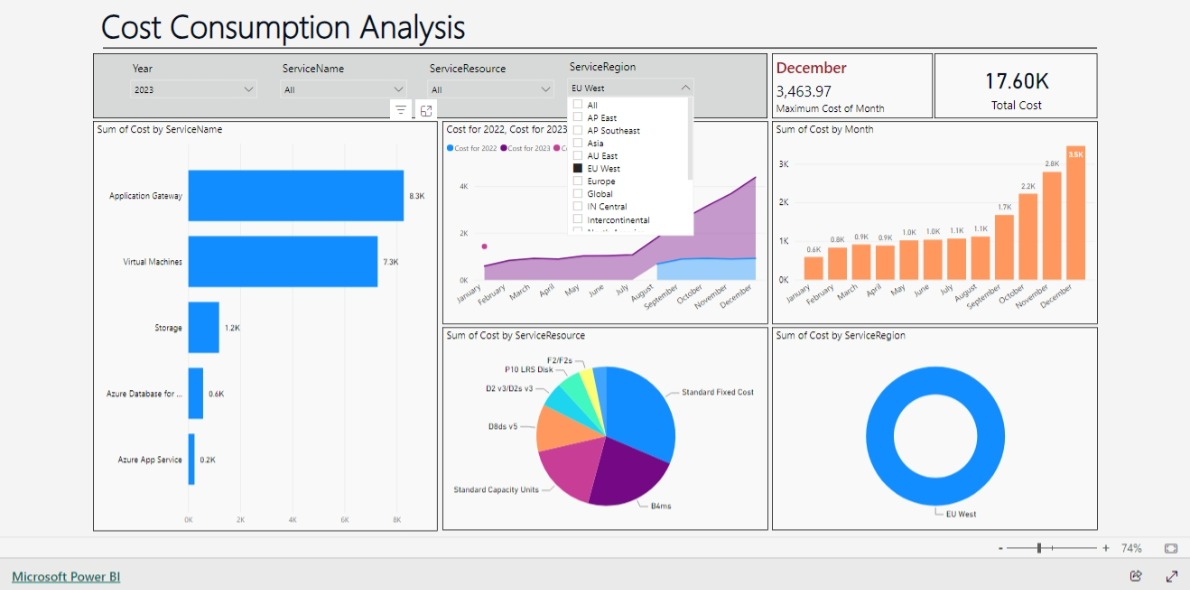

What the dashboard file says about the page in this screenshot:
{"tool":"powerbi","page":{"name":"Page 1","canvas":[1503,800],"ordinal":0},"visuals":[{"type":"shape","box":[3.2,79,1006,97],"z":0},{"type":"columnChart","title":"Total Cost by Month","fields":{"Category":["AzureUsage_Workxflow_10-01-2024.Date.Variation.Date Hierarchy.Month"],"Y":["Sum(AzureUsage_Workxflow_10-01-2024.Cost)"]},"box":[1015,180,486,303.4],"z":1000},{"type":"donutChart","title":"Total Cost by ServiceRegion","fields":{"Category":["AzureUsage_Workxflow_10-01-2024.ServiceRegion"],"Y":["Sum(AzureUsage_Workxflow_10-01-2024.Cost)"]},"box":[1015,488,486,303],"z":2000},{"type":"pieChart","title":"Total Cost by ServiceResource","fields":{"Category":["AzureUsage_Workxflow_10-01-2024.ServiceResource"],"Y":["Sum(AzureUsage_Workxflow_10-01-2024.Cost)"]},"box":[523.3,488,486,303],"z":3000},{"type":"clusteredBarChart","title":"total cost by ServiceName","fields":{"Category":["AzureUsage_Workxflow_10-01-2024.ServiceName"],"Y":["Sum(AzureUsage_Workxflow_10-01-2024.Cost)"]},"box":[3,180,514,611],"z":4000},{"type":"card","fields":{"Values":["Sum(AzureUsage_Workxflow_10-01-2024.Cost)"]},"box":[1258.3,79,242.7,97],"z":5000},{"type":"slicer","fields":{"Values":["AzureUsage_Workxflow_10-01-2024.ServiceName"]},"box":[417,85.7,193.9,87.3],"z":6000},{"type":"slicer","fields":{"Values":["AzureUsage_Workxflow_10-01-2024.ServiceResource"]},"box":[610.9,85.7,192.3,87.3],"z":7000},{"type":"slicer","fields":{"Values":["AzureUsage_Workxflow_10-01-2024.ServiceRegion"]},"box":[803.2,85.7,193.9,87.3],"z":8000},{"type":"slicer","fields":{"Values":["AzureUsage_Workxflow_10-01-2024.Date.Variation.Date Hierarchy.Year"]},"box":[17.6,86.2,193,86.2],"z":9000},{"type":"multiRowCard","fields":{"Values":["AzureUsage_Workxflow_10-01-2024.Date.Variation.Date Hierarchy.Month","Sum(AzureUsage_Workxflow_10-01-2024.Cost)"]},"box":[1015.6,79.8,239.5,97.4],"z":10000},{"type":"stackedAreaChart","title":"Cost Comparison by Year","fields":{"Category":["AzureUsage_Workxflow_10-01-2024.Date.Variation.Date Hierarchy.Month"],"Y":["AzureUsage_Workxflow_10-01-2024.Cost for 2022","AzureUsage_Workxflow_10-01-2024.Cost for 2023","AzureUsage_Workxflow_10-01-2024.Cost for 2024"]},"box":[523.3,180,486,303.3],"z":11000},{"type":"shape","box":[17.6,19,1483.4,105.4],"z":12000},{"type":"textbox","box":[9.6,0,811.2,83],"z":13000},{"type":"slicer","fields":{"Values":["AzureUsage_Workxflow_10-01-2024.Date.Variation.Date Hierarchy.Month"]},"box":[221.4,85.7,193.9,87.3],"z":13001}]}

Visuals, with their boxes on the page's 1503x800 design canvas (x1, y1, x2, y2). These are canvas units, not pixel positions in the 1190x590 screenshot, which may show the page scaled, cropped or inside an application window:
shape: 3 79 1009 176
"Total Cost by Month" columnChart: 1015 180 1501 483
"Total Cost by ServiceRegion" donutChart: 1015 488 1501 791
"Total Cost by ServiceResource" pieChart: 523 488 1009 791
"total cost by ServiceName" clusteredBarChart: 3 180 517 791
card - Sum(AzureUsage_Workxflow_10-01-2024.Cost): 1258 79 1501 176
slicer - AzureUsage_Workxflow_10-01-2024.ServiceName: 417 86 611 173
slicer - AzureUsage_Workxflow_10-01-2024.ServiceResource: 611 86 803 173
slicer - AzureUsage_Workxflow_10-01-2024.ServiceRegion: 803 86 997 173
slicer - AzureUsage_Workxflow_10-01-2024.Date.Variation.Date Hierarchy.Year: 18 86 211 172
multiRowCard - AzureUsage_Workxflow_10-01-2024.Date.Variation.Date Hierarchy.Month x Sum(AzureUsage_Workxflow_10-01-2024.Cost): 1016 80 1255 177
"Cost Comparison by Year" stackedAreaChart: 523 180 1009 483
shape: 18 19 1501 124
textbox: 10 0 821 83
slicer - AzureUsage_Workxflow_10-01-2024.Date.Variation.Date Hierarchy.Month: 221 86 415 173
